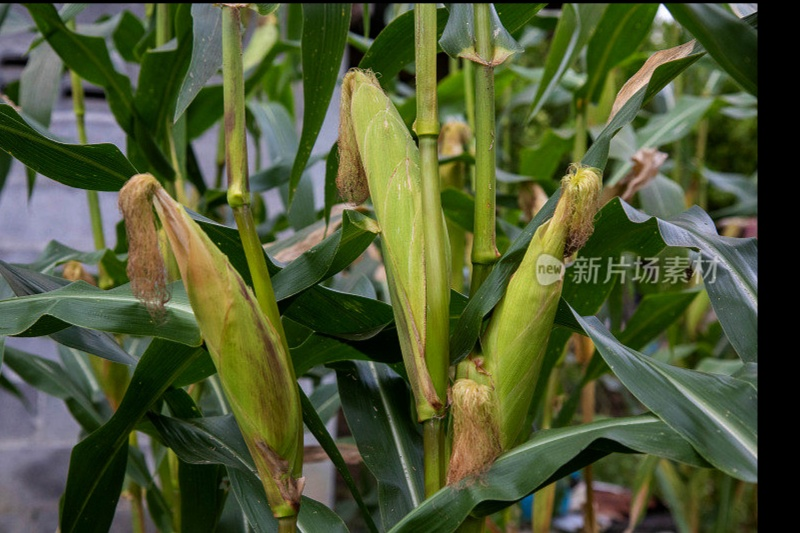corn_plant: (106, 168, 304, 508), (457, 157, 600, 481), (331, 72, 453, 419)
